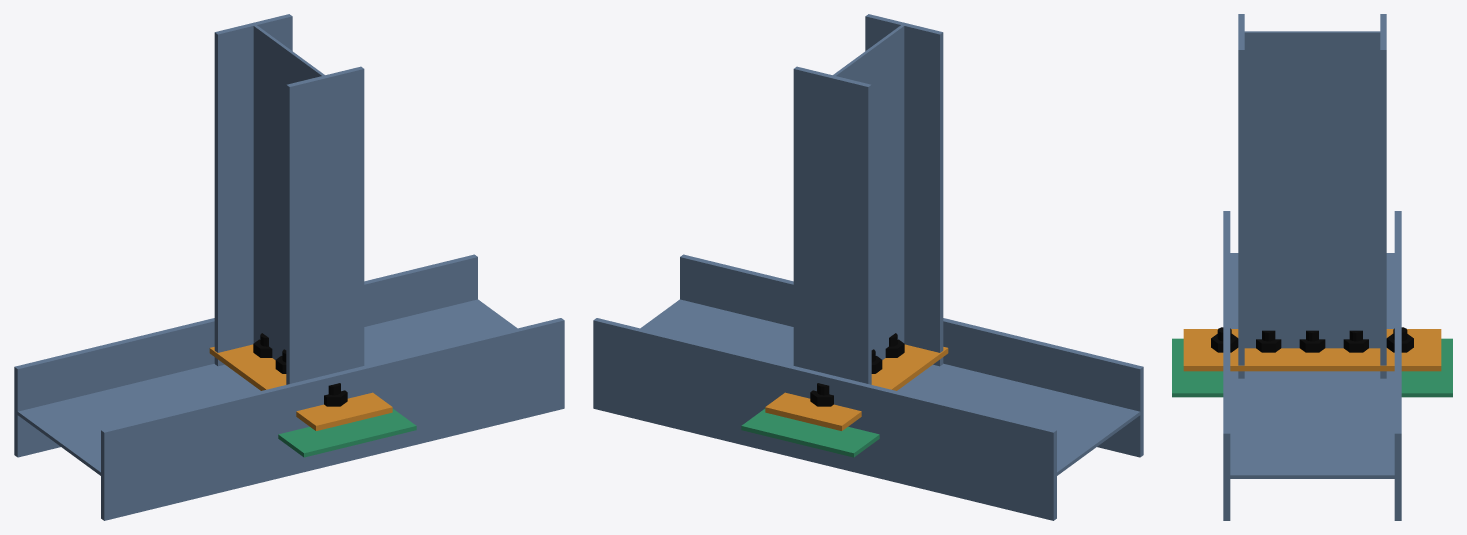
The model's file is detail_B3_beam_to_beam_connection.obj.
3 views of the same model, side by side, from view 1: azimuth 30°, elevation 25°; view 2: azimuth 150°, elevation 25°; view 3: azimuth 270°, elevation 25° (orthographic).
Parts seen in each view (by area): view 1: B3_primary_beam_top_flange, B3_secondary_beam_top_flange, B3_primary_beam_bottom_flange, B3_primary_beam_web, B3_secondary_beam_bottom_flange, B3_secondary_beam_web, B3_PL10_fin_plate_150x440, B3_PL8_beam_web_doubler; view 2: B3_primary_beam_bottom_flange, B3_secondary_beam_bottom_flange, B3_primary_beam_top_flange, B3_primary_beam_web, B3_secondary_beam_top_flange, B3_secondary_beam_web, B3_PL10_fin_plate_150x440, B3_PL8_beam_web_doubler; view 3: B3_secondary_beam_web, B3_primary_beam_web, B3_PL10_fin_plate_150x440, B3_PL8_beam_web_doubler, B3_secondary_beam_top_flange, B3_secondary_beam_bottom_flange, B3_primary_beam_top_flange, B3_primary_beam_bottom_flange, bolt_M24_B3_3, bolt_M24_B3_2, bolt_M24_B3_4, bolt_M24_B3_1 (+1 smaller).
Boxes of the visible parts, x1,y1,x2,y2 form: B3_primary_beam_top_flange: (101, 318, 564, 520); B3_secondary_beam_top_flange: (286, 66, 364, 384); B3_primary_beam_bottom_flange: (14, 254, 477, 457); B3_primary_beam_web: (17, 299, 517, 475); B3_secondary_beam_bottom_flange: (214, 14, 292, 366); B3_secondary_beam_web: (253, 25, 324, 359); B3_PL10_fin_plate_150x440: (209, 344, 392, 430); B3_PL8_beam_web_doubler: (278, 408, 416, 457); B3_primary_beam_bottom_flange: (593, 318, 1056, 520); B3_secondary_beam_bottom_flange: (793, 66, 871, 384); B3_primary_beam_top_flange: (680, 254, 1143, 457); B3_primary_beam_web: (640, 299, 1140, 475); B3_secondary_beam_top_flange: (865, 14, 943, 366); B3_secondary_beam_web: (833, 25, 904, 359); B3_PL10_fin_plate_150x440: (765, 344, 948, 430); B3_PL8_beam_web_doubler: (741, 408, 879, 457); B3_secondary_beam_web: (1244, 31, 1380, 348); B3_primary_beam_web: (1230, 253, 1394, 478); B3_PL10_fin_plate_150x440: (1183, 329, 1441, 371); B3_PL8_beam_web_doubler: (1172, 338, 1452, 397); B3_secondary_beam_top_flange: (1238, 14, 1244, 378); B3_secondary_beam_bottom_flange: (1380, 14, 1386, 378); B3_primary_beam_top_flange: (1223, 211, 1230, 520); B3_primary_beam_bottom_flange: (1394, 211, 1401, 520); bolt_M24_B3_3: (1299, 330, 1325, 352); bolt_M24_B3_2: (1343, 330, 1368, 352); bolt_M24_B3_4: (1256, 330, 1281, 352); bolt_M24_B3_1: (1386, 327, 1413, 352).
Size of the model in its own units: 900 by 712 by 480.
